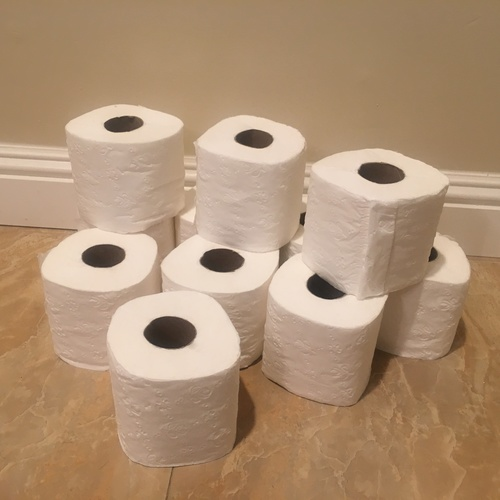roll: (109, 292, 240, 466), (304, 148, 449, 300), (261, 251, 389, 405), (41, 227, 159, 372), (63, 102, 186, 234), (195, 115, 306, 253), (377, 233, 470, 361)
